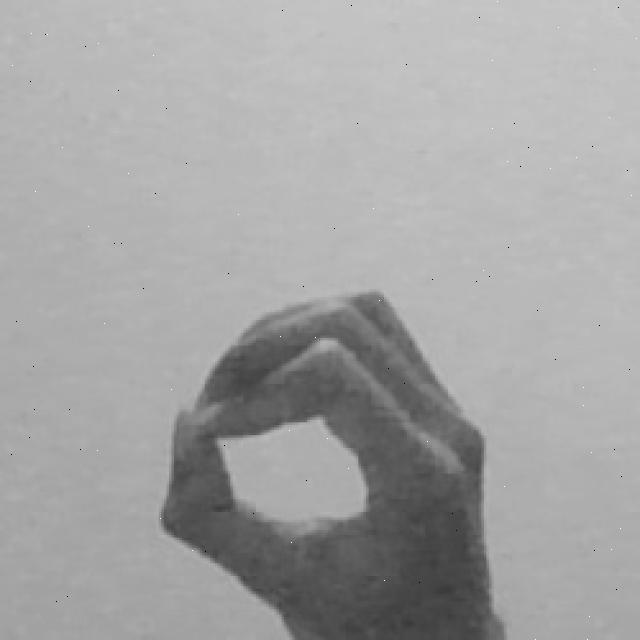O: (154, 283, 516, 640)
